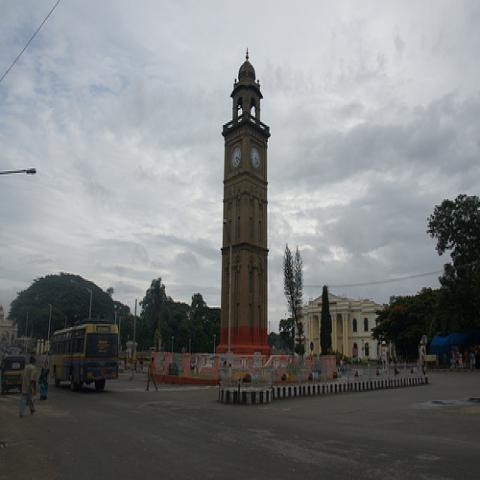bus: (49, 319, 119, 390)
car: (11, 347, 20, 355)
